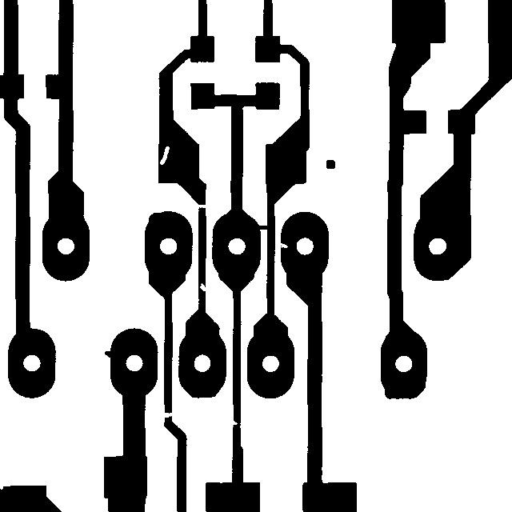copper: (318, 152, 342, 176)
mousebite: (193, 275, 214, 298), (272, 235, 295, 255), (224, 412, 245, 432)
open: (154, 405, 181, 425), (188, 196, 215, 215)
pin-hole: (152, 138, 177, 172)
short: (248, 217, 276, 237)
spur: (97, 343, 119, 365)
